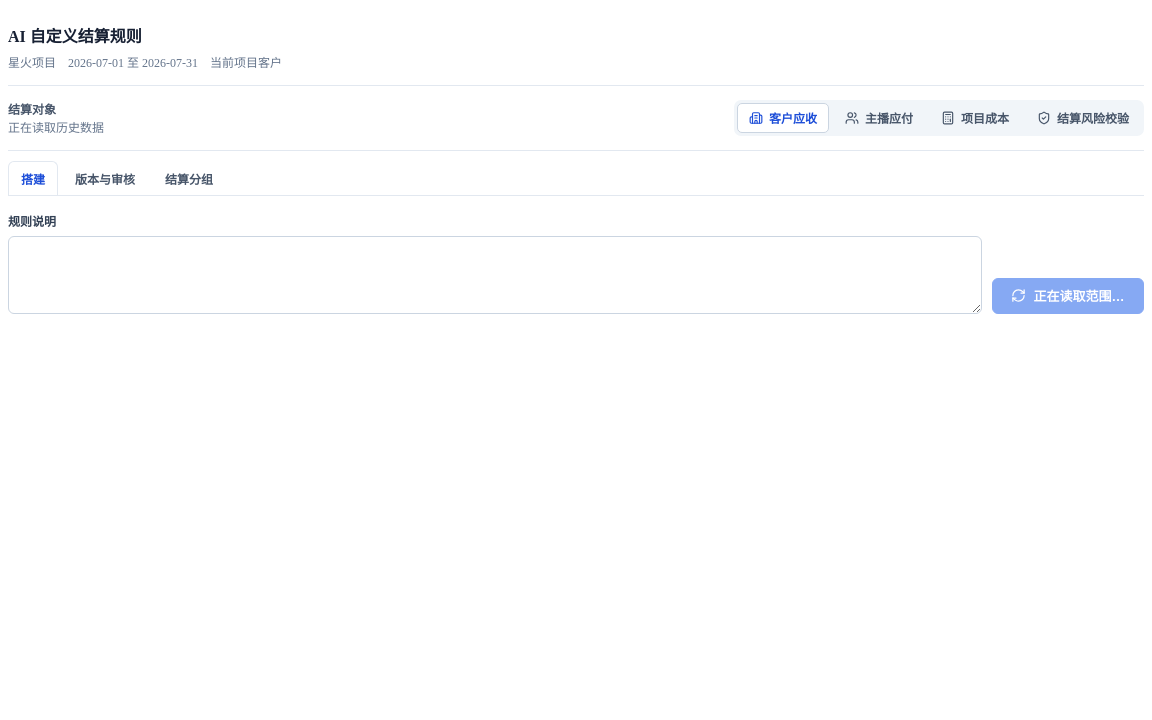
Test: CustomSettlementRuleWorkspace › refreshes from the authoritative session and focuses the new result
Click the button "主播应付". click: {"x": 879, "y": 118}
box: [833,103,925,133]
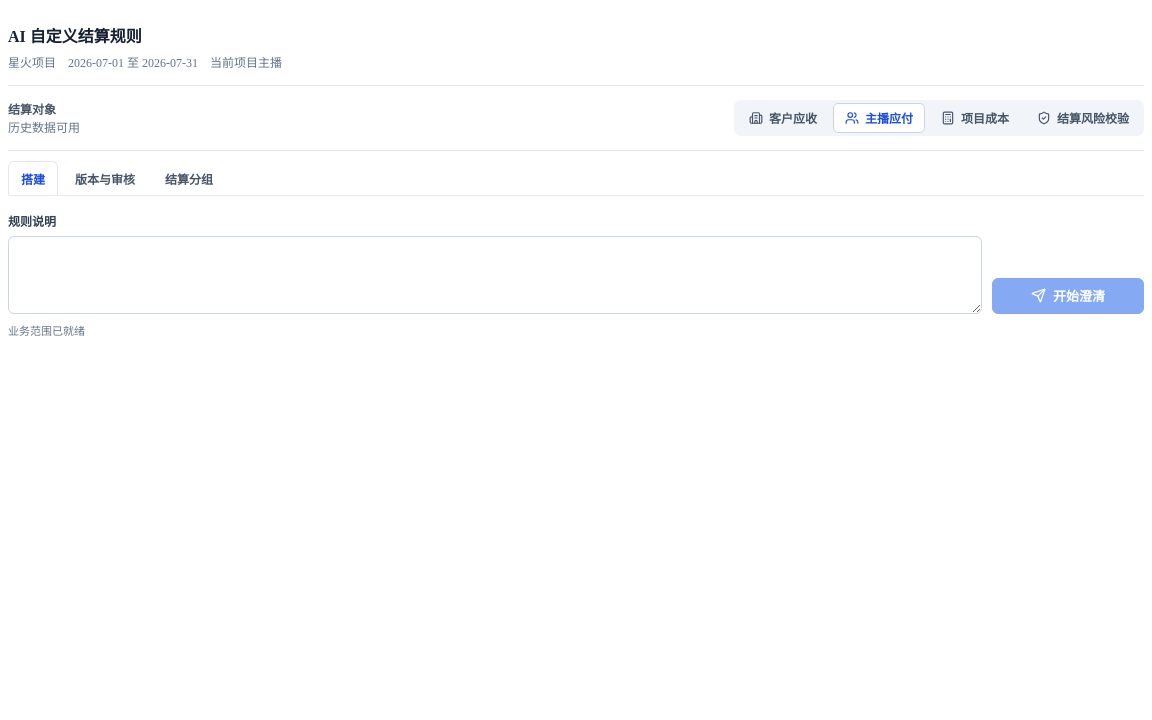
Type "每场按直播时长和单价结算" into the text box labelled "规则说明". click: {"x": 495, "y": 275}
box: [8,236,982,314]
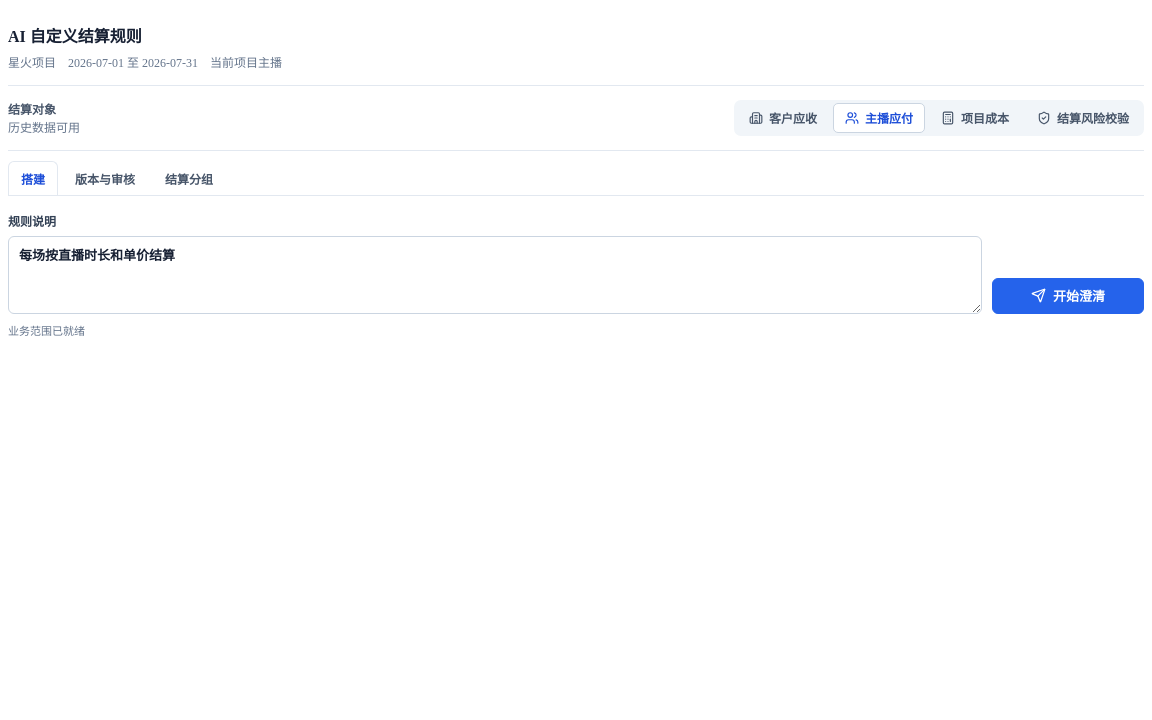
Click the button "开始澄清". click: {"x": 1068, "y": 296}
box: [992,278,1144,314]
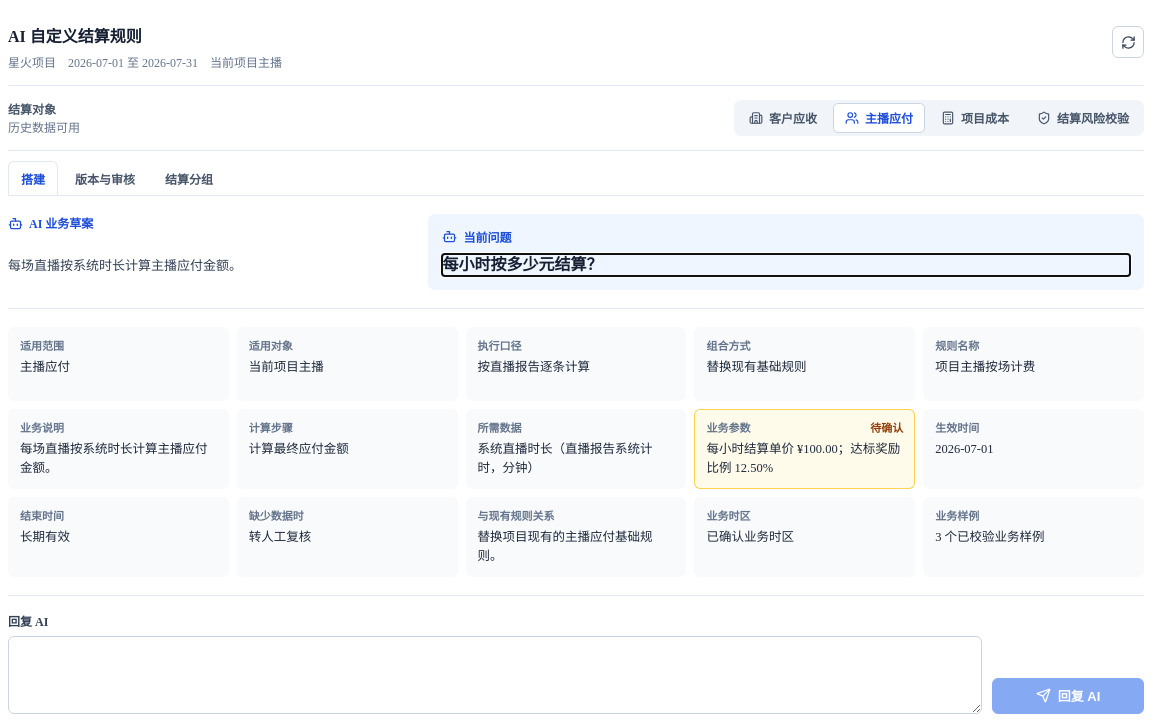
expect the heading "每小时按多少元结算？" is shown: met, box [442,256,602,273]
Click the button named "刷新会话". click: {"x": 1128, "y": 42}
box: [1112,26,1144,58]
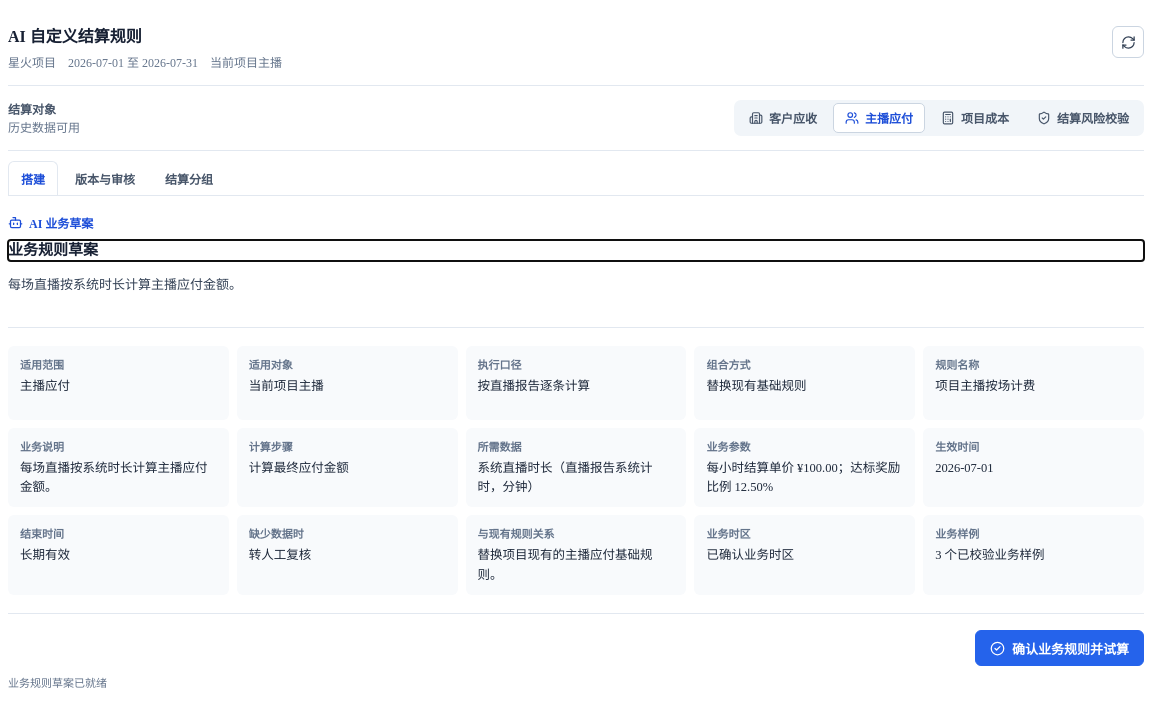
expect the heading "每小时按多少元结算？" is gone: met
